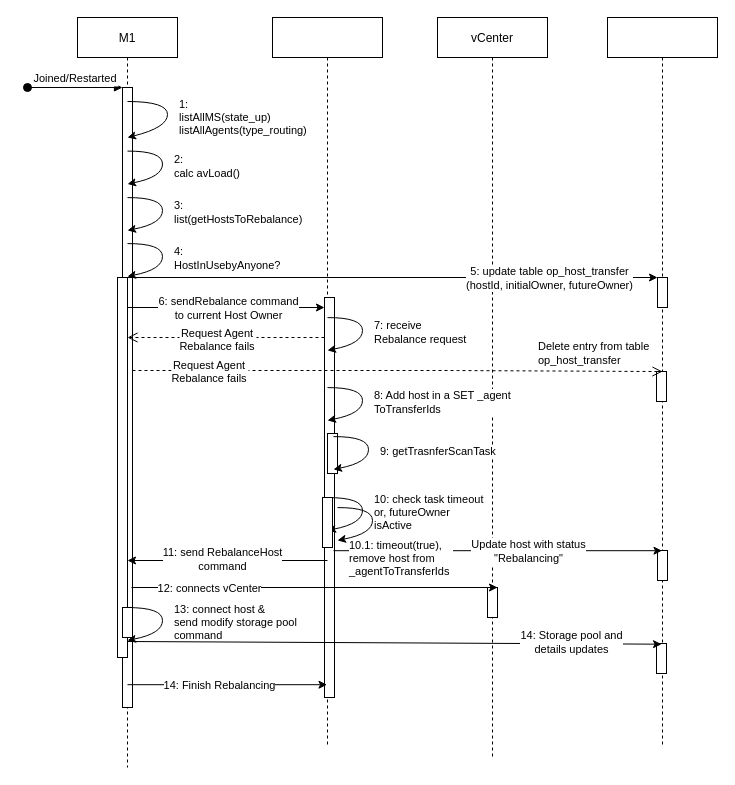
The diagram is 735 pixels wide and 785 high, and some of its shapes have lost their labels. Each missing label, with the box of its shape:
DB: (606, 16, 718, 748)
M2: (272, 16, 382, 748)
